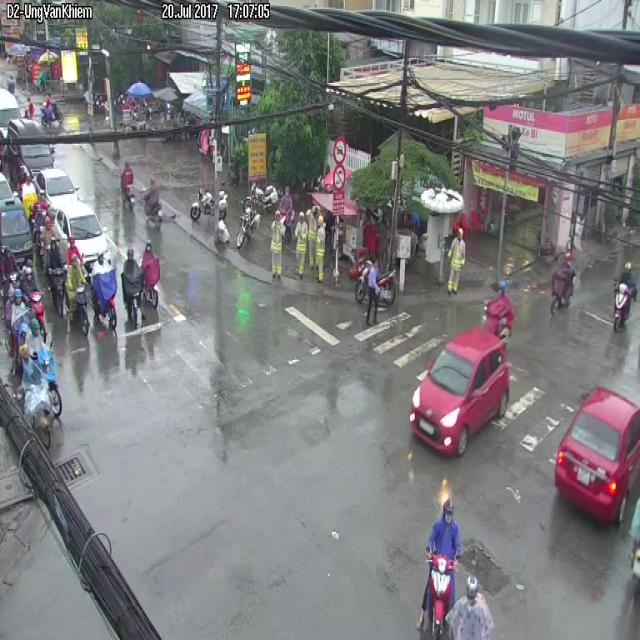car: (418, 496, 460, 639)
traffic-light: (409, 330, 509, 456), (554, 387, 639, 521), (56, 203, 108, 271), (46, 170, 75, 196)
